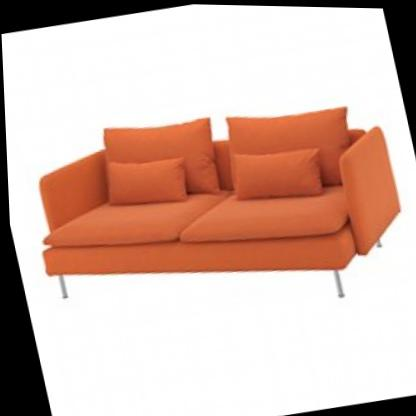Sofa: (6, 50, 416, 362)
